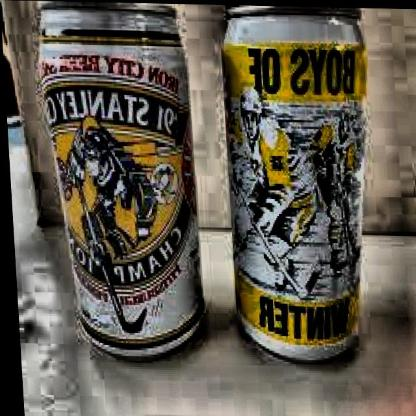Can: (32, 0, 208, 367), (216, 4, 384, 366)
